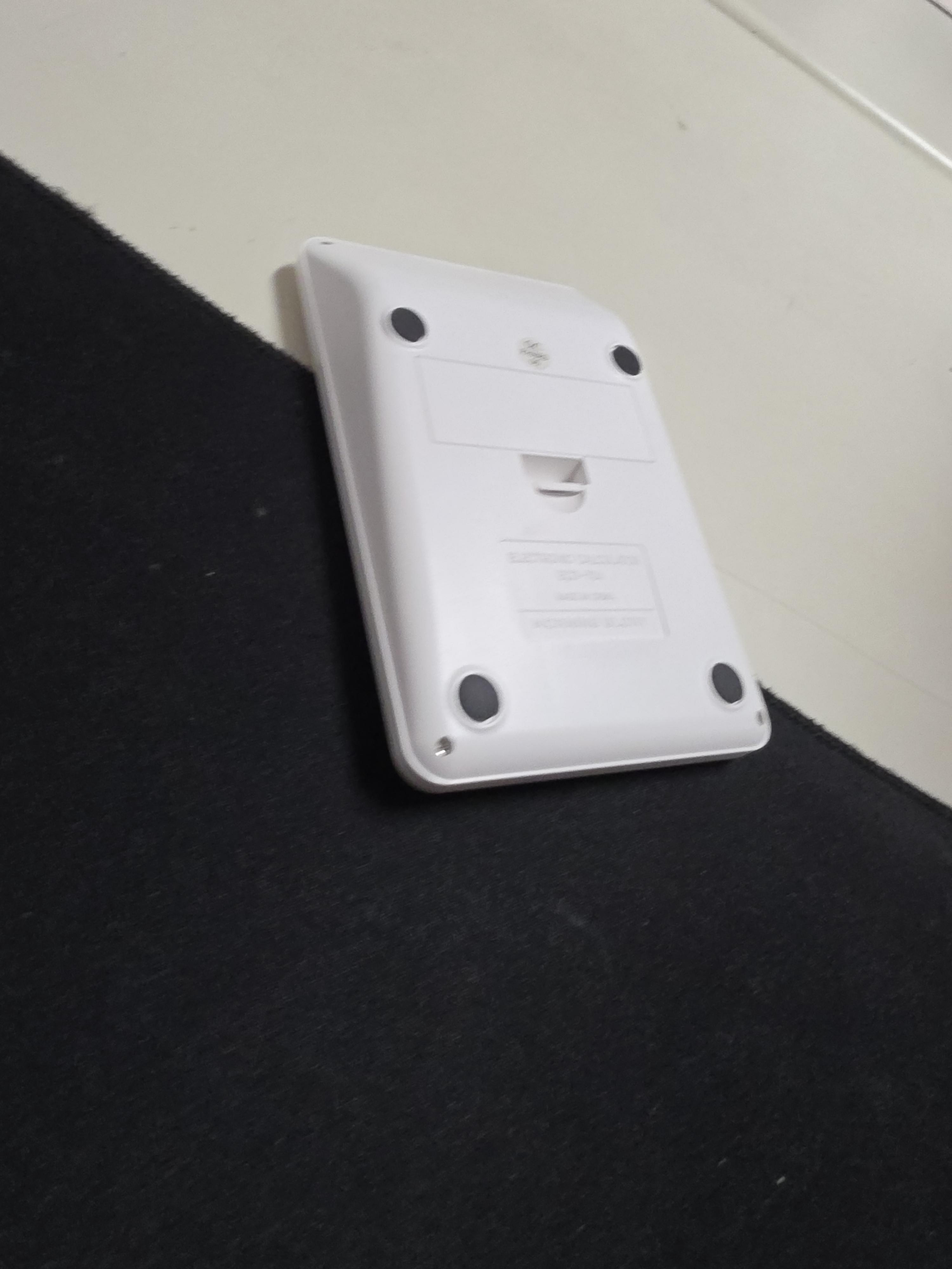calculator: (296, 233, 772, 794)
